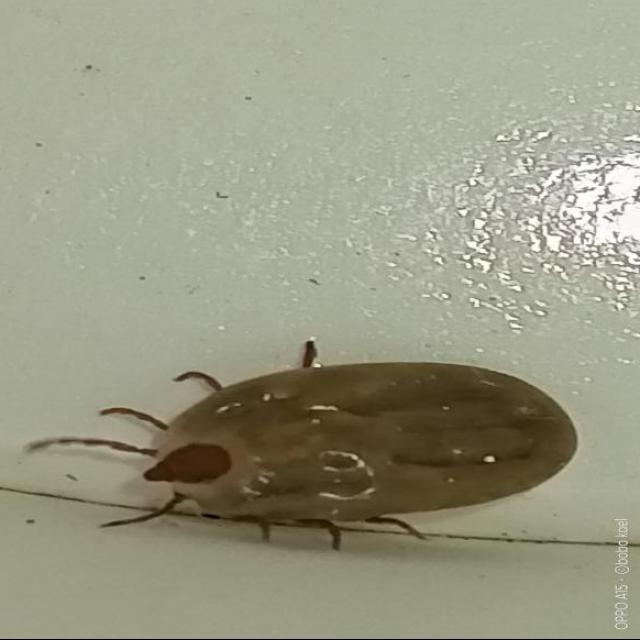Rhipicephalus Sanguineus-F-Fed: (23, 341, 581, 550)
